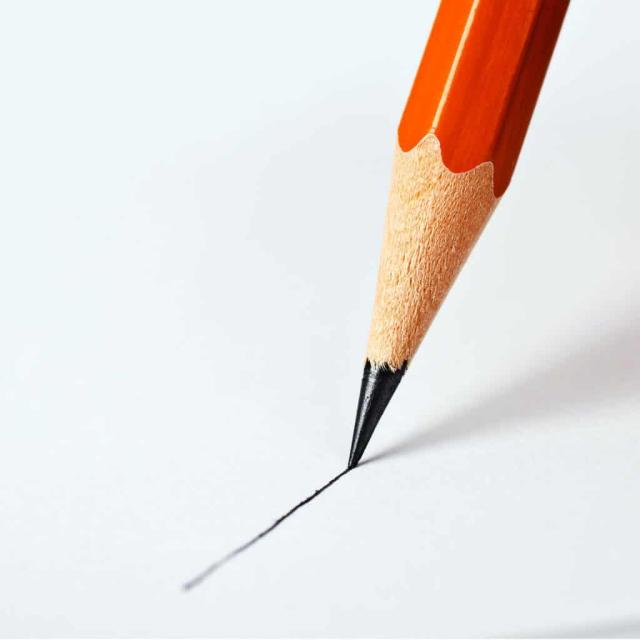pencil: (343, 0, 576, 466)
